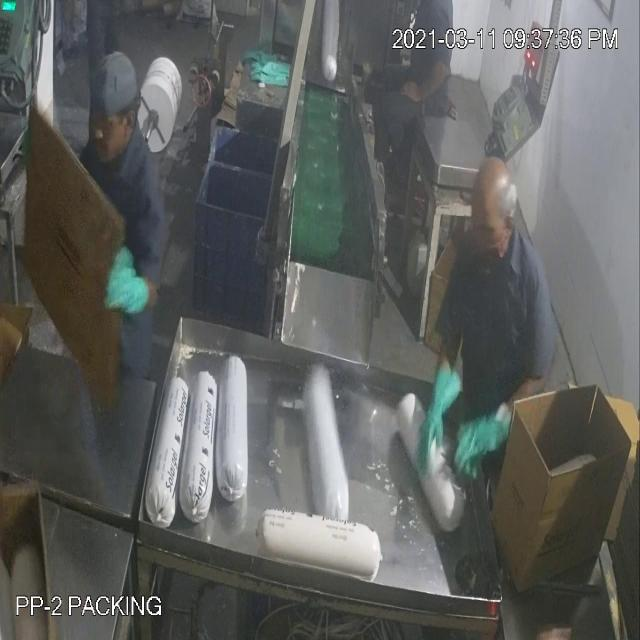gloves: (99, 238, 152, 336)
no-gloves: (406, 358, 460, 468), (448, 406, 509, 484), (397, 64, 453, 115)
